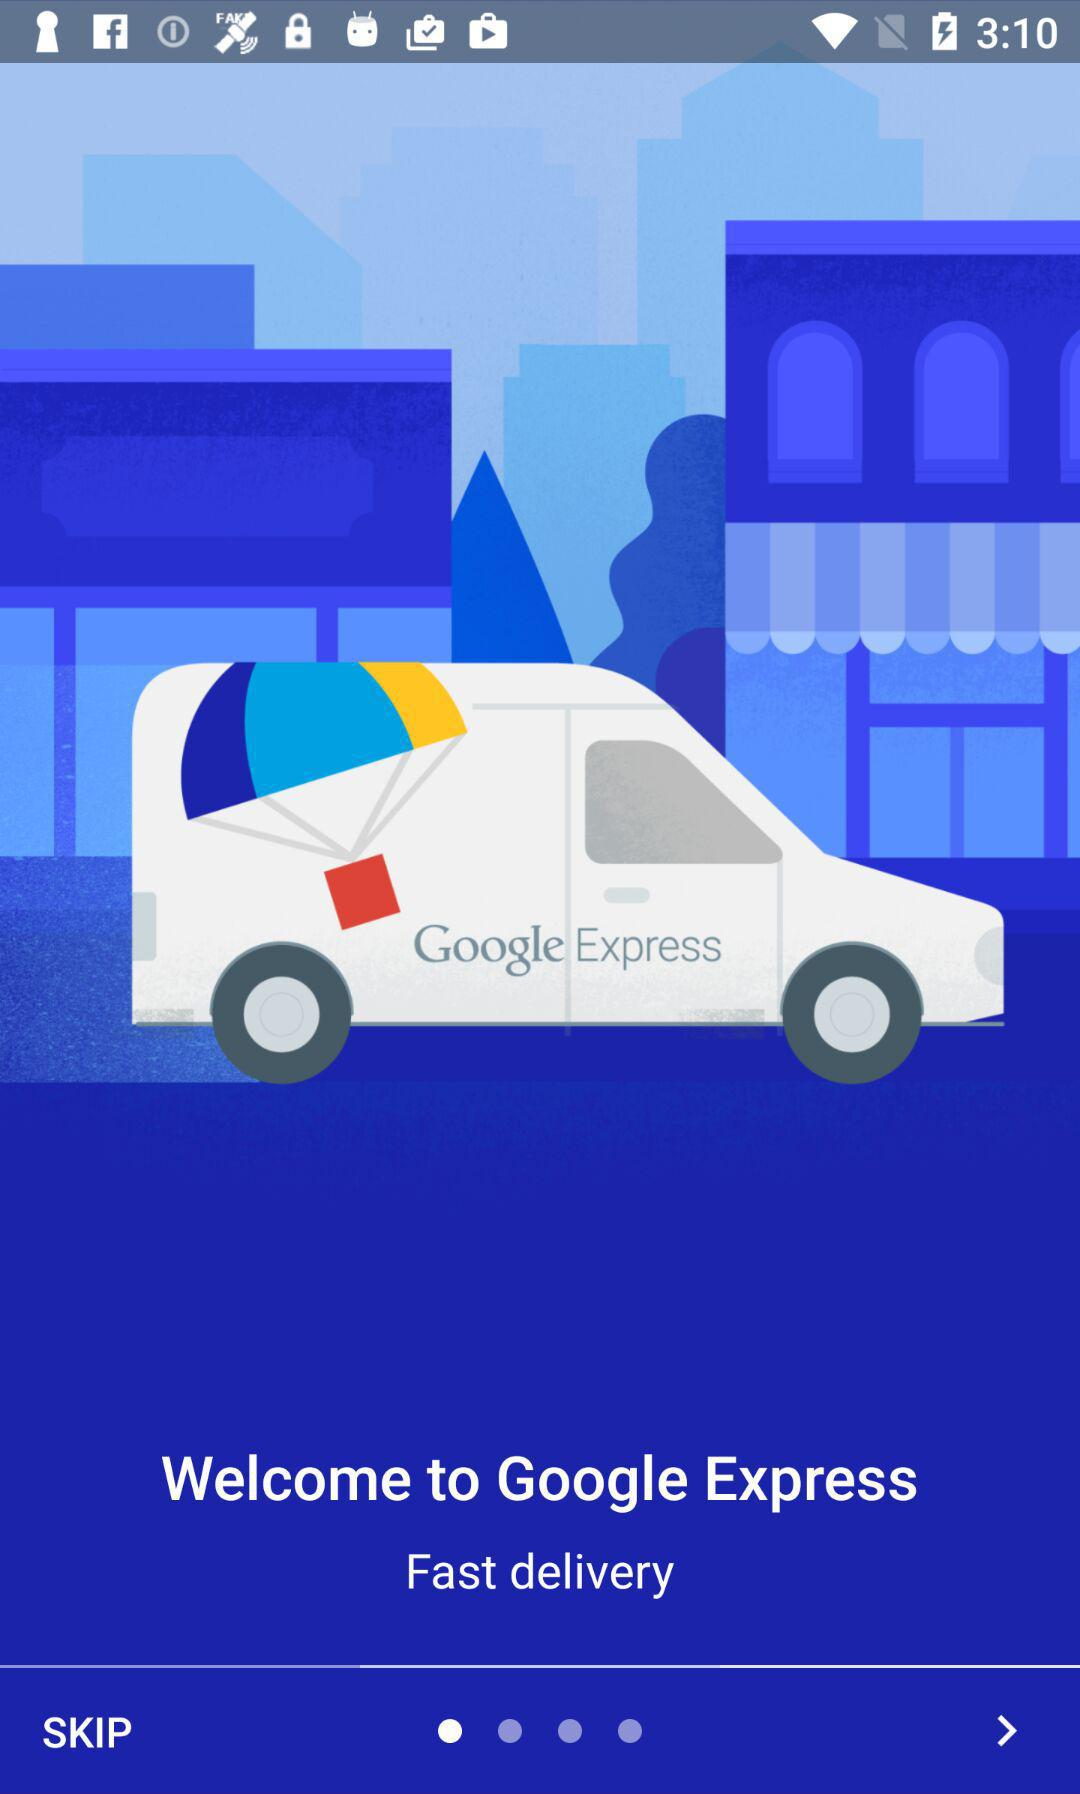Icon: (995, 1713, 1019, 1749)
Image: (1, 64, 1080, 1087)
PageIndicator: (436, 1716, 644, 1747)
Text: (160, 1451, 919, 1515), (407, 1551, 676, 1601), (44, 1715, 133, 1750)
UpperTaskBar: (1, 1, 1080, 64)
